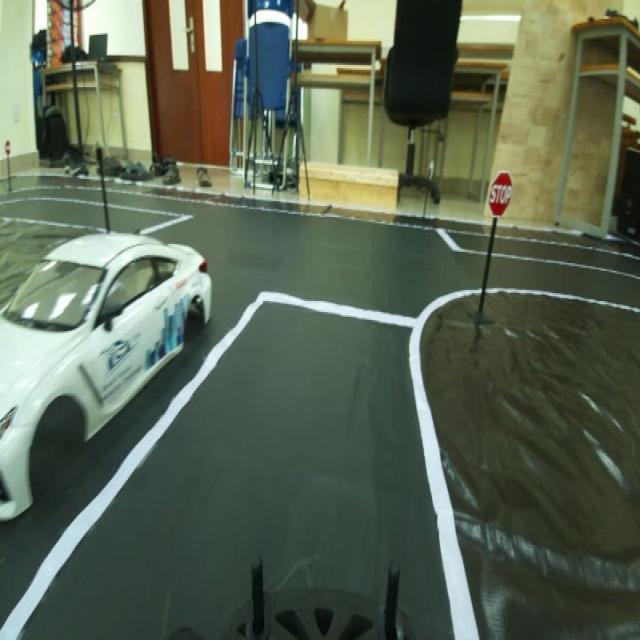car: (1, 198, 212, 551)
stop: (486, 161, 520, 227)
